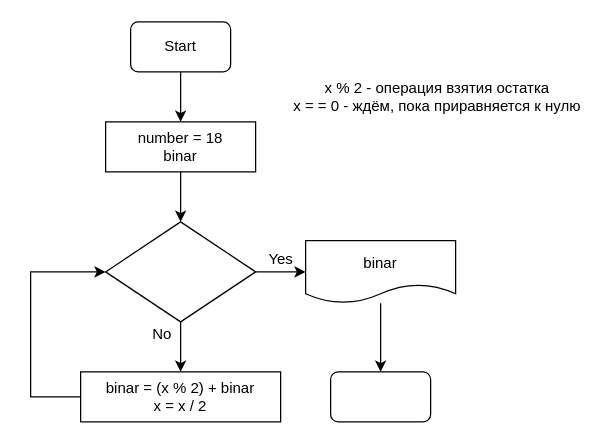
Image size: 615x444. Some labels were removed from this diagram. Each missing label, with the centre of its shape:
"Finish" goes at pixel 380 396.
"x == 0" goes at pixel 180 271.
